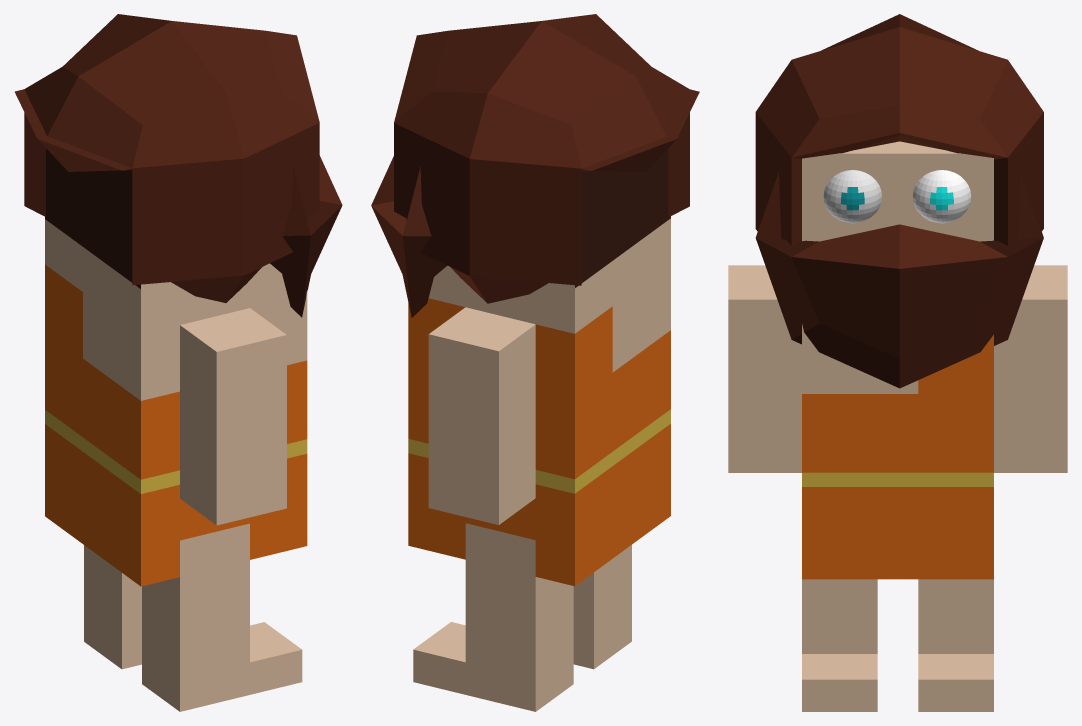
The model's file is cave_man_original.glb.
3 views of the same model, side by side, from view 1: azimuth 30°, elevation 25°; view 2: azimuth 150°, elevation 25°; view 3: azimuth 270°, elevation 25° (orthographic).
Parts seen in each view (by area): view 1: Cube, Cube.001, Cube.002; view 2: Cube, Cube.001, Cube.002; view 3: Cube, Cube.001, Cube.002, Sphere, Sphere.001.
Part boxes in pixels (x1=…): Cube: x1=45, y1=148, x2=307, y2=711; Cube.001: x1=15, y1=14, x2=319, y2=302; Cube.002: x1=270, y1=155, x2=342, y2=317; Cube: x1=408, y1=148, x2=670, y2=711; Cube.001: x1=394, y1=14, x2=699, y2=303; Cube.002: x1=371, y1=156, x2=447, y2=317; Cube: x1=728, y1=141, x2=1067, y2=711; Cube.001: x1=755, y1=14, x2=1043, y2=245; Cube.002: x1=755, y1=172, x2=1043, y2=388; Sphere: x1=823, y1=170, x2=881, y2=223; Sphere.001: x1=912, y1=170, x2=971, y2=223.
Bounding box in the file's own units: 3.4 × 7.42 × 3.53.
